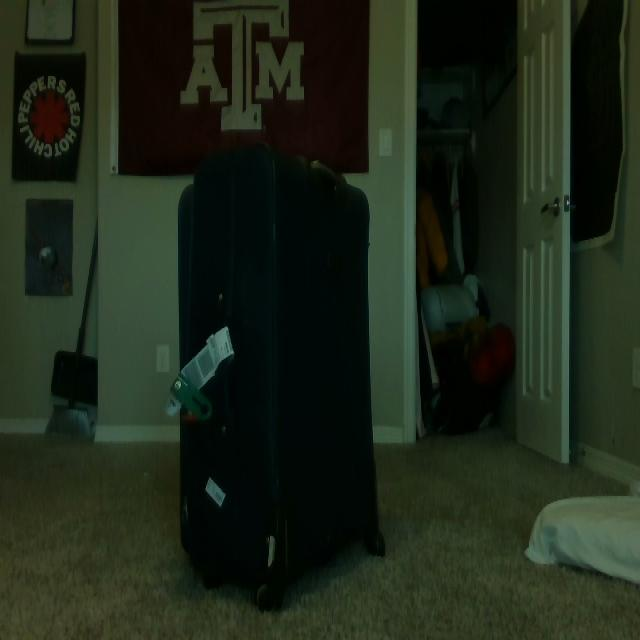suitcase: (174, 143, 387, 611)
